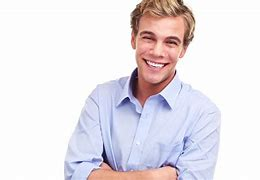person: (128, 1, 196, 86)
